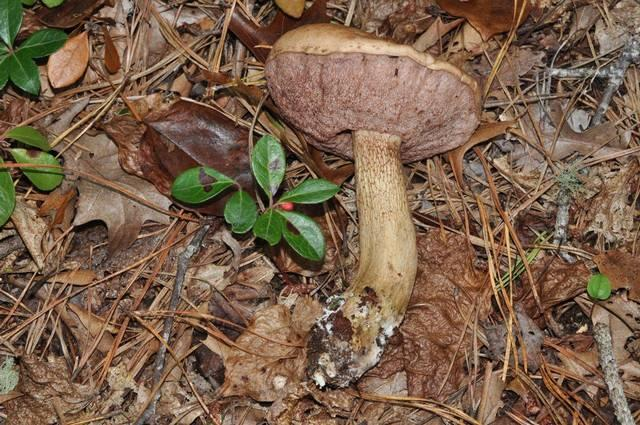Non-edible Mushroom: (261, 21, 482, 389)
